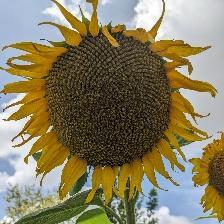sunflower: (47, 22, 175, 177)
